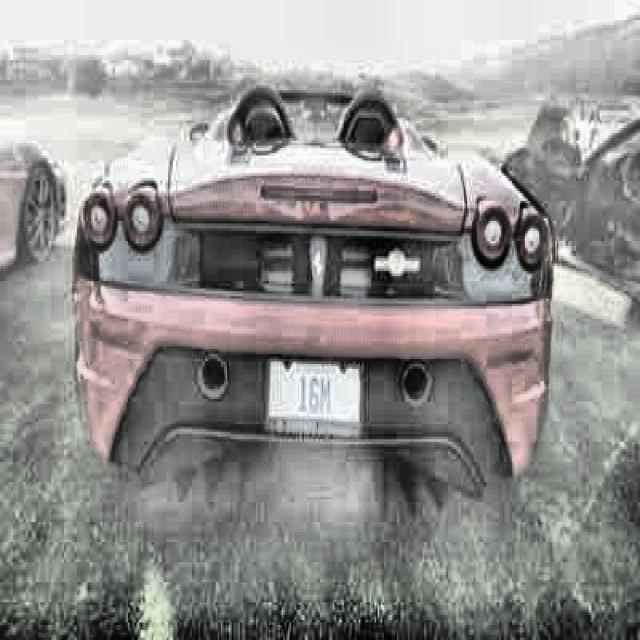license_plate: (271, 357, 360, 435)
